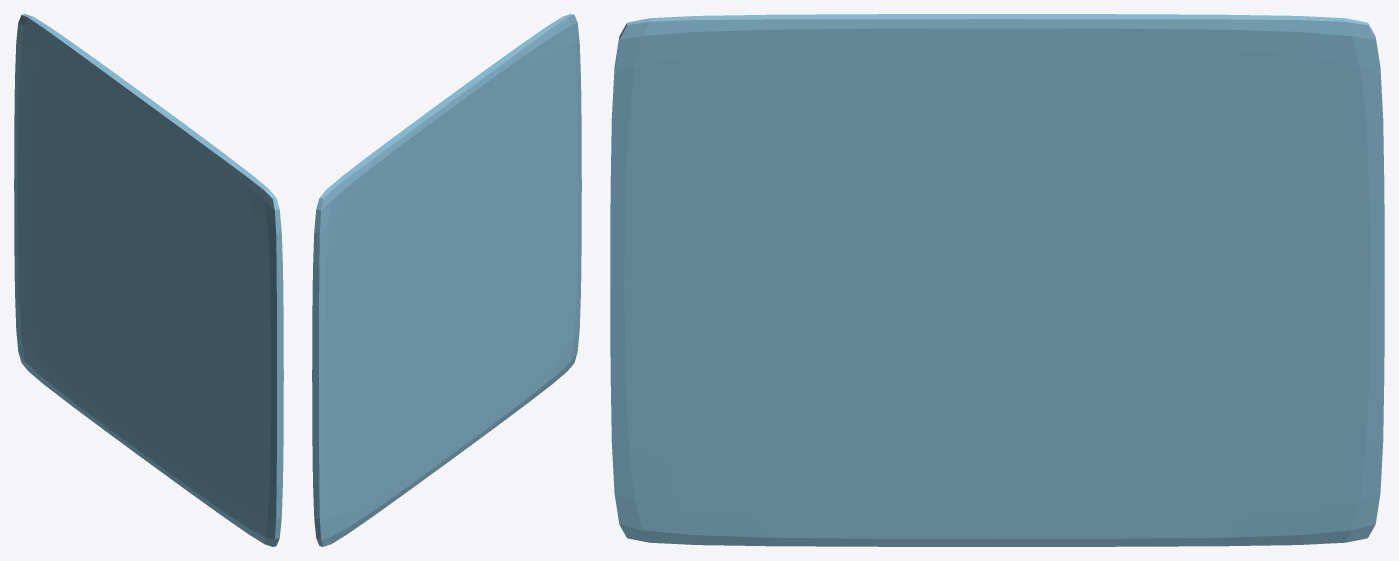
Rendered from DreamMenu.fbx.
3 views of the same model, side by side, from view 1: azimuth 30°, elevation 25°; view 2: azimuth 150°, elevation 25°; view 3: azimuth 270°, elevation 25° (orthographic). The views are drawn at different scales.
Parts seen in each view (by area): view 1: Cube; view 2: Cube; view 3: Cube.
Part boxes in pixels (<box>): Cube: <box>14,14,283,546</box>; Cube: <box>312,14,581,546</box>; Cube: <box>610,14,1384,546</box>.
Size of the model in its own units: 99.47 by 2 by 74.79.
